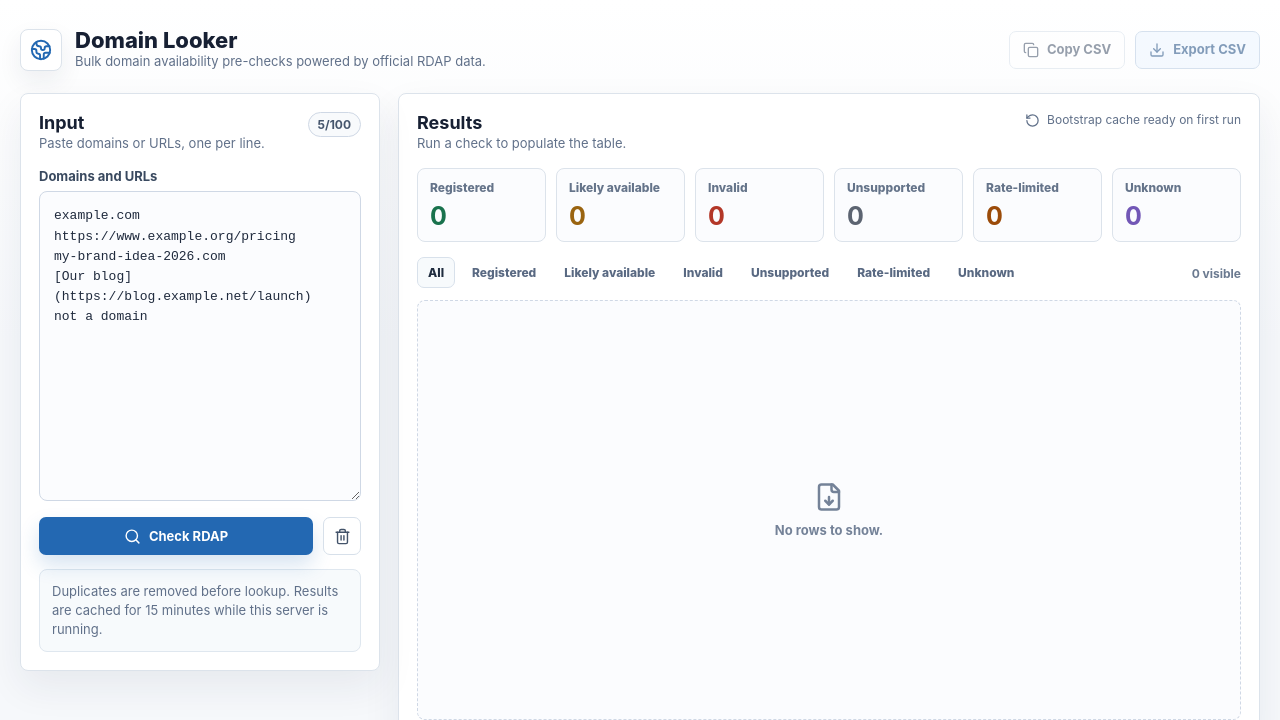
it: App › checks pasted domains and renders result rows
Replace the text in the text box labelled "Domains and URLs" with "example.com" at [200, 346], box [39, 192, 361, 502]
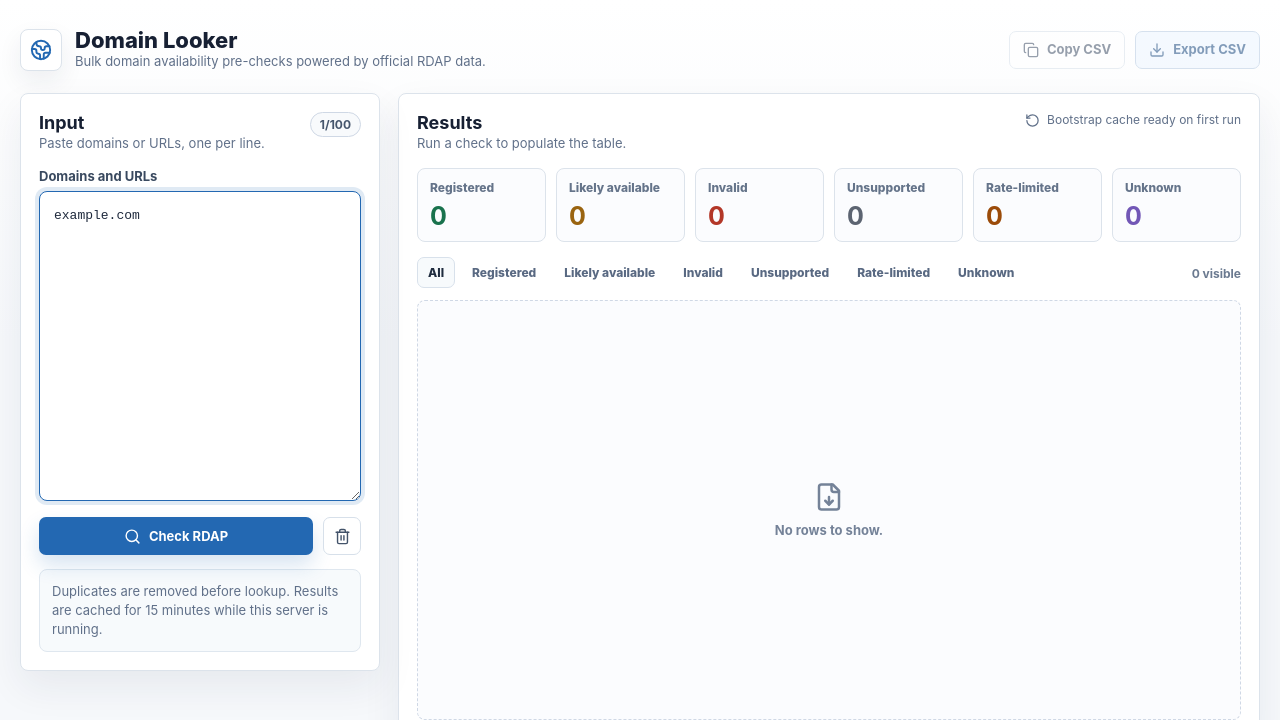
Click the button "Check RDAP" at [176, 536], box [39, 518, 313, 556]
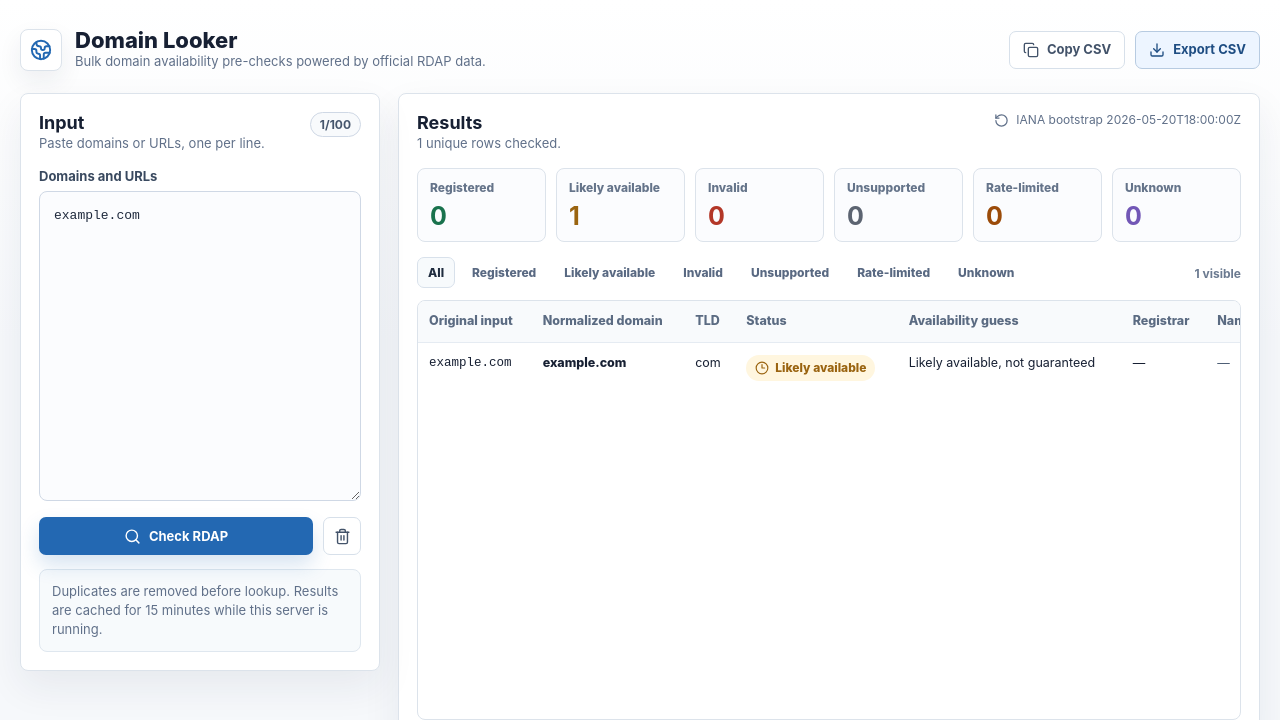
Check: the text "1 unique rows checked." is shown, box [417, 134, 561, 152]
